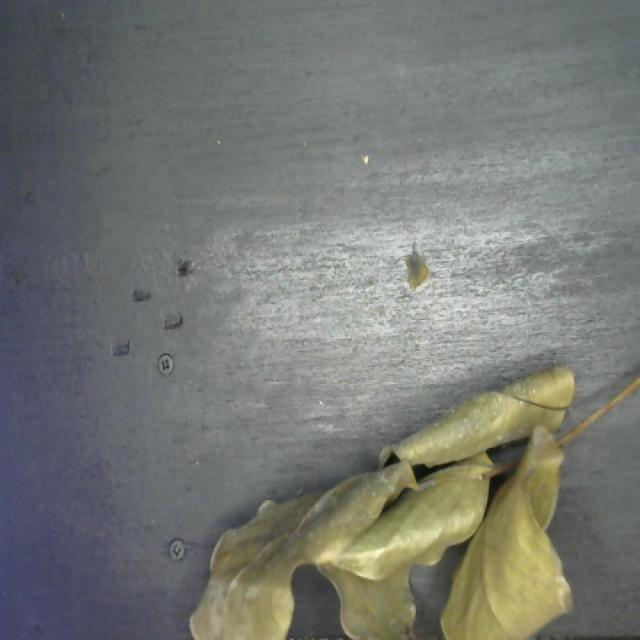biodegradable: (185, 362, 578, 640)
